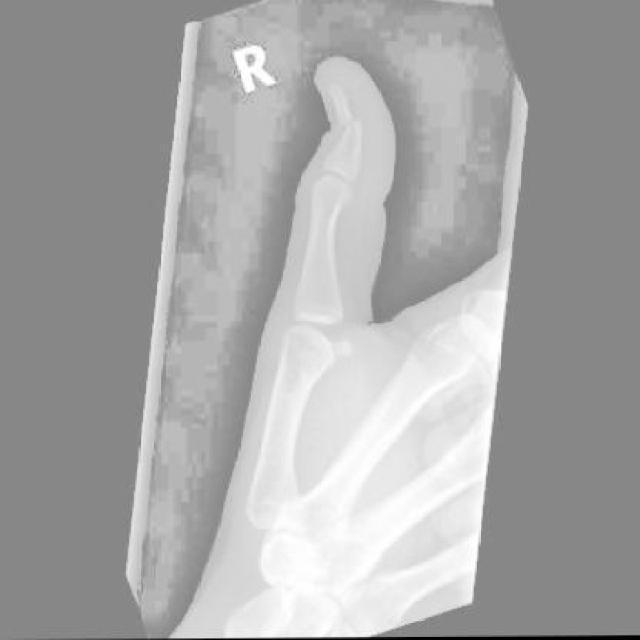Fracture: (334, 109, 365, 142)
